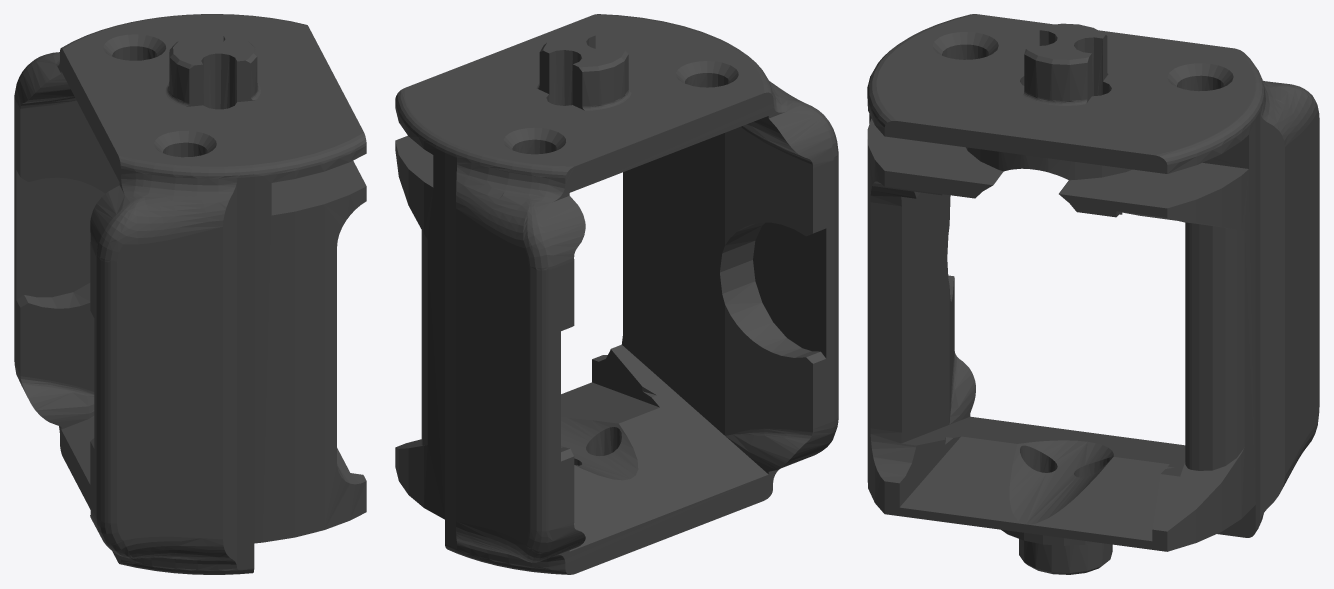
Rendered from lh_thumb_metacarpals_base2_vis.obj.
The picture shows the model from 3 angles, left to right: view 1: azimuth 30°, elevation 25°; view 2: azimuth 150°, elevation 25°; view 3: azimuth 270°, elevation 25°; orthographic projection. The views are drawn at different scales.
Visible parts, largest first — view 1: lh_thumb_metacarpals_base2; view 2: lh_thumb_metacarpals_base2; view 3: lh_thumb_metacarpals_base2.
Part boxes in pixels (<box>): lh_thumb_metacarpals_base2: <box>14,14,366,574</box>; lh_thumb_metacarpals_base2: <box>395,14,838,574</box>; lh_thumb_metacarpals_base2: <box>867,14,1319,574</box>.
Bounding box in the file's own units: 0.0208 × 0.03 × 0.0239.
Materials: 1 (1 with a texture image).
